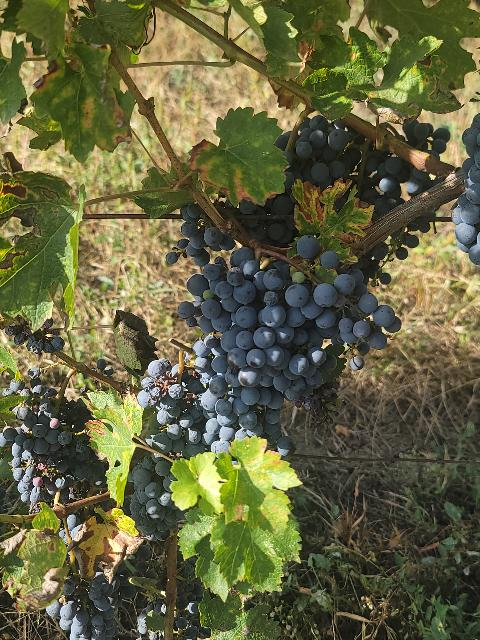grapes: (179, 248, 311, 454), (0, 368, 108, 511), (285, 269, 400, 349), (138, 359, 208, 455), (46, 572, 122, 640), (295, 115, 361, 189), (130, 456, 185, 541), (451, 114, 480, 265), (365, 156, 432, 199), (402, 120, 450, 158), (360, 175, 400, 218), (320, 250, 340, 270)
